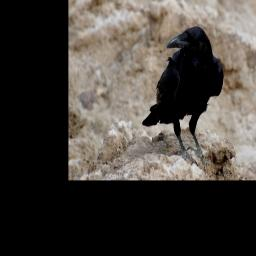Crow: (142, 26, 224, 163)
